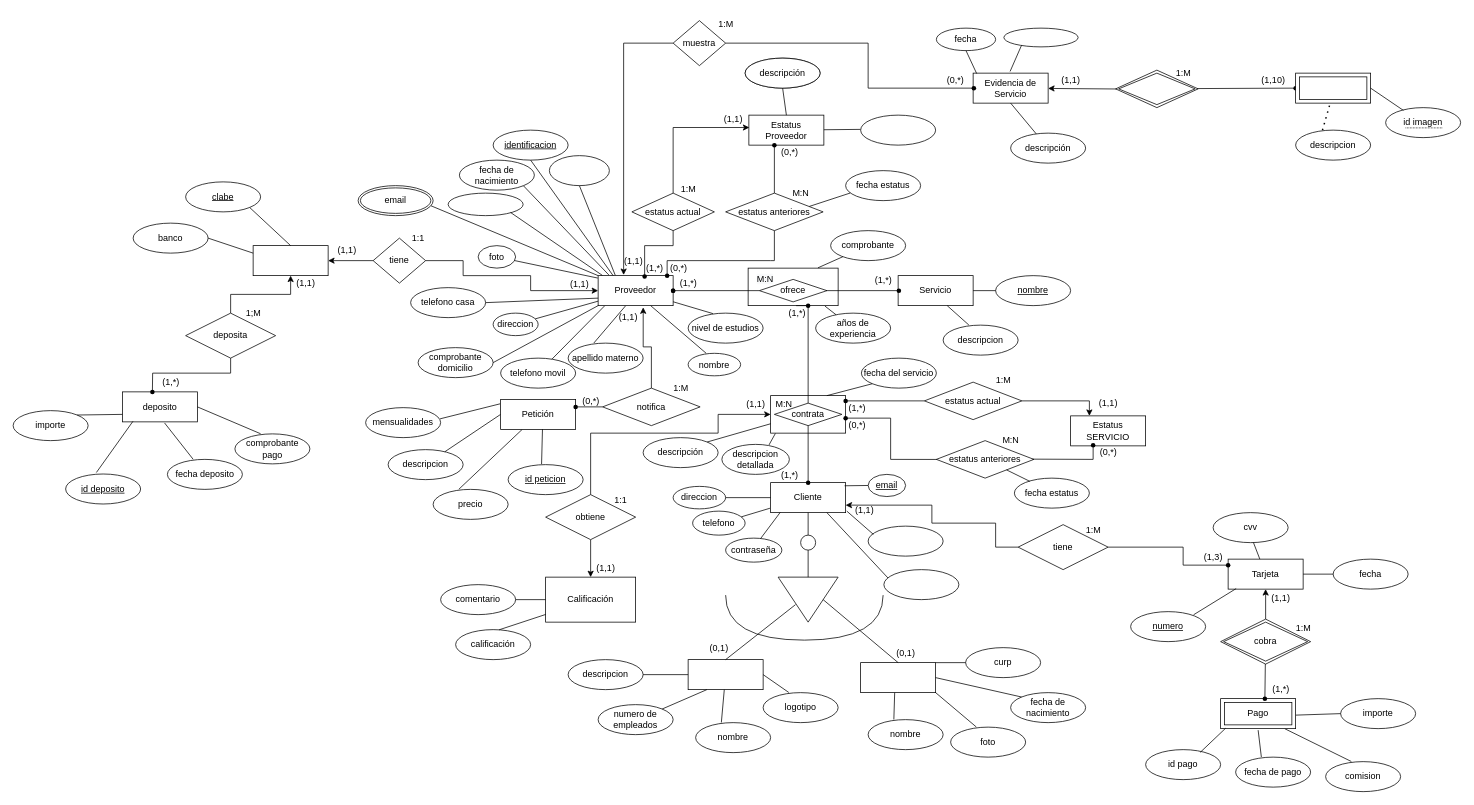
This 1474x805 diagram has some shape labels left out. The shapes that lost their labels are listed below. From the top down, each one's centre as x and y in pixels, then its label:
[1040,37]: id evidencia
[1156,88]: contiene
[1333,87]: imagen
[898,129]: clave
[579,170]: entidad de nacimiento
[485,204]: apellido paterno
[290,260]: Cuenta Bancaria
[905,540]: nombre usuario
[921,584]: fecha registro
[725,674]: Empresa
[898,677]: Persona
